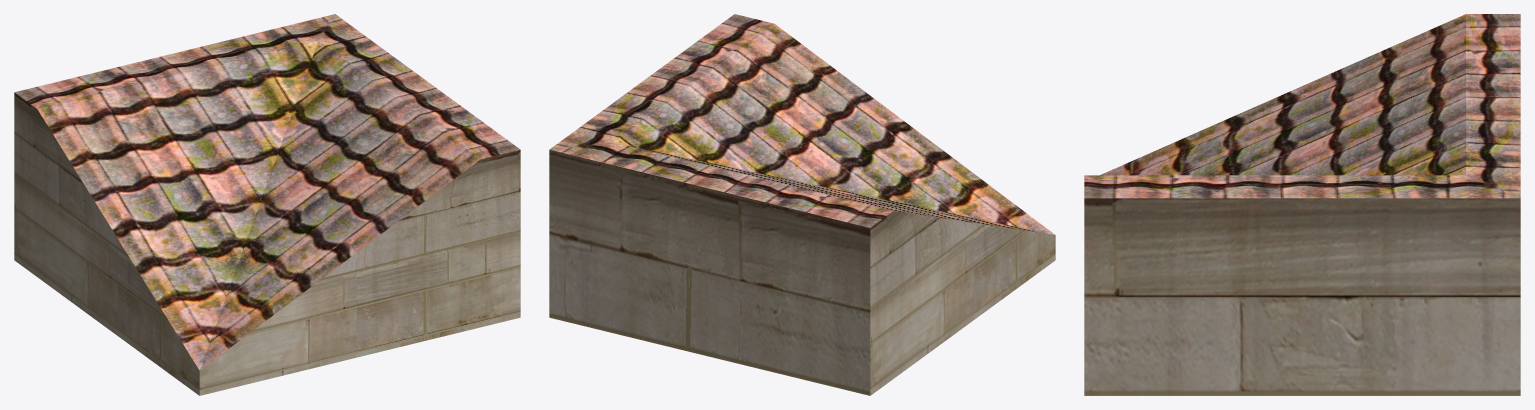
File: svspartaroof2.dae
3 renders of one model, left to right at view 1: azimuth 30°, elevation 25°; view 2: azimuth 150°, elevation 25°; view 3: azimuth 270°, elevation 25°, orthographic. The views are drawn at different scales.
Visible parts, largest first — view 1: cube12_sep30-0; view 2: cube12_sep30-0; view 3: cube12_sep30-0.
Part boxes in pixels (x1,y1,x2,y2): cube12_sep30-0: (14,14,520,395); cube12_sep30-0: (549,14,1055,395); cube12_sep30-0: (1084,14,1520,395).
Size of the model in its own units: 150 by 75 by 150.
